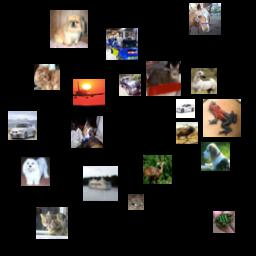airplane: (73, 79, 105, 111)
automobile: (106, 28, 138, 60), (8, 111, 37, 140), (119, 74, 141, 96), (176, 99, 195, 118)
cat: (146, 61, 181, 96), (71, 116, 103, 148), (36, 207, 68, 239), (34, 64, 60, 90)
deer: (143, 155, 172, 184), (176, 122, 198, 144)
dog: (50, 10, 88, 48), (201, 142, 230, 171), (21, 157, 50, 186)
frog: (203, 99, 241, 137), (213, 211, 235, 233), (128, 194, 144, 210)
ship: (83, 166, 118, 201)
